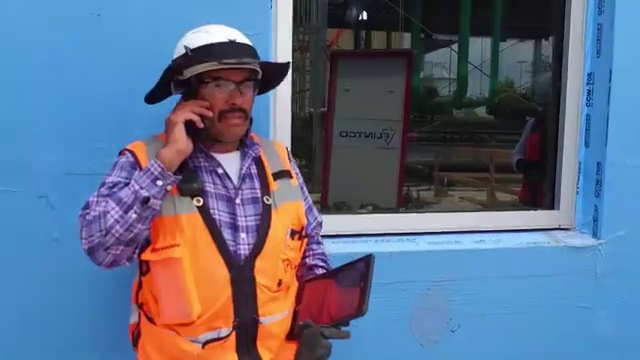helmet: (154, 20, 289, 92)
jacket: (113, 128, 319, 360)
